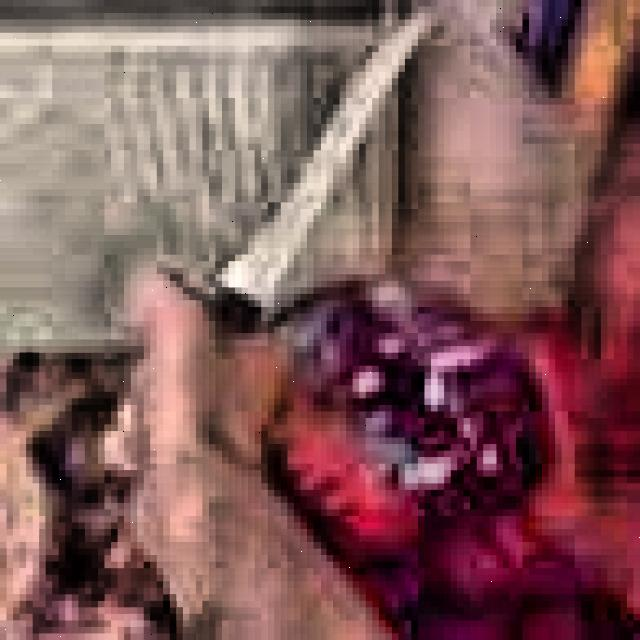knife: (100, 18, 428, 523)
